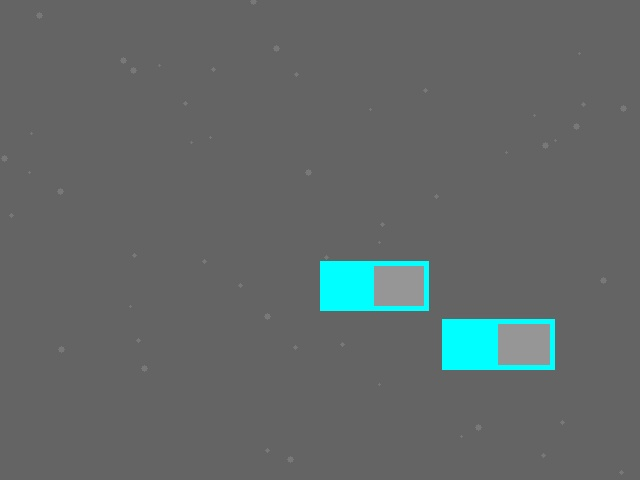truck: (442, 319, 554, 369), (320, 261, 428, 310)
